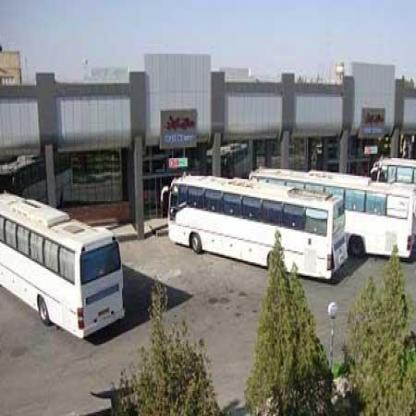Bus: (159, 169, 349, 290), (0, 183, 129, 330), (252, 162, 416, 266), (369, 151, 416, 208)
